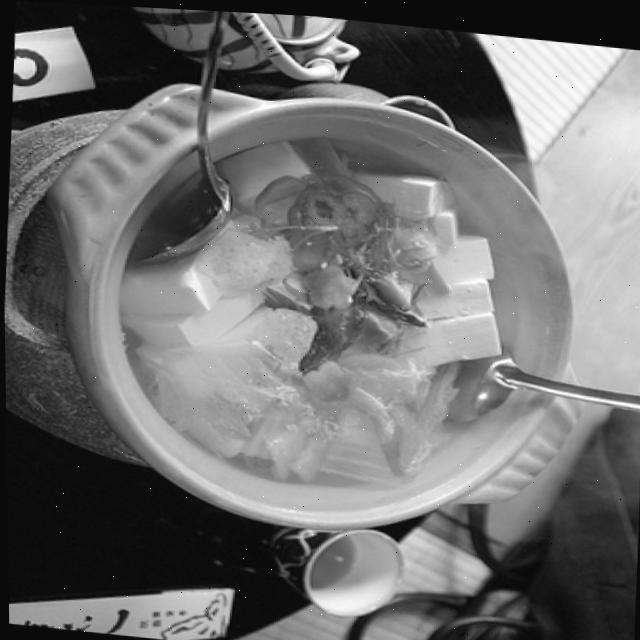豆腐料理: (104, 88, 563, 526)
